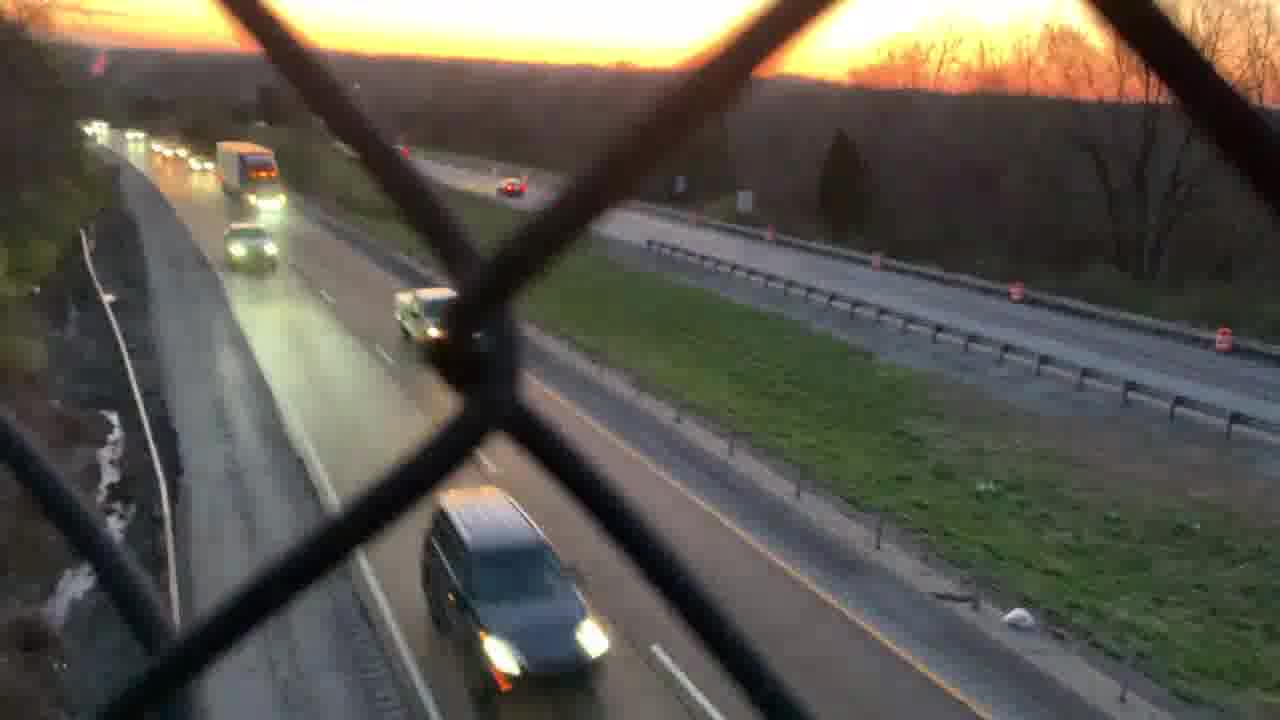heavyTruck: (216, 137, 274, 213)
largeCar: (421, 483, 604, 698)
lightTruck: (394, 285, 471, 360)
smallCar: (498, 176, 521, 194)
